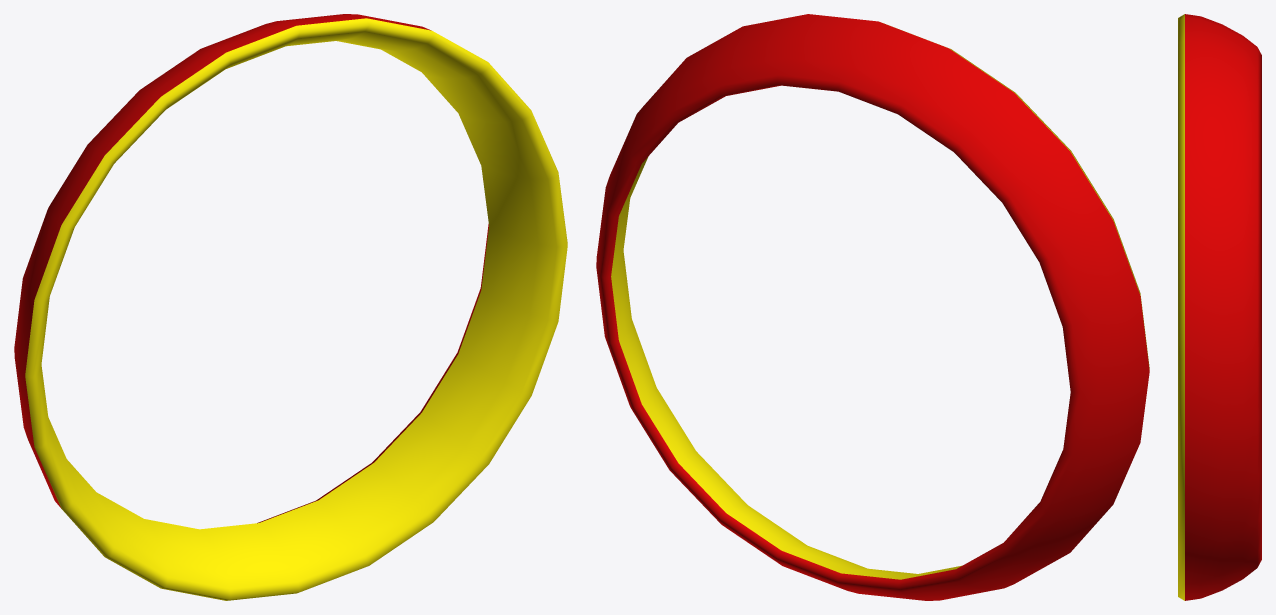
The model's file is Checkpoint.fbx.
The picture shows the model from 3 angles, left to right: view 1: azimuth 30°, elevation 25°; view 2: azimuth 150°, elevation 25°; view 3: azimuth 270°, elevation 25°; orthographic projection. The views are drawn at different scales.
Parts seen in each view (by area): view 1: Torus01; view 2: Torus01; view 3: Torus01.
Part boxes in pixels (x1,y1,x2,y2): Torus01: (14, 14, 567, 600); Torus01: (596, 14, 1149, 600); Torus01: (1178, 14, 1261, 600).
Bounding box in the file's own units: 217 × 217 × 30.85.
